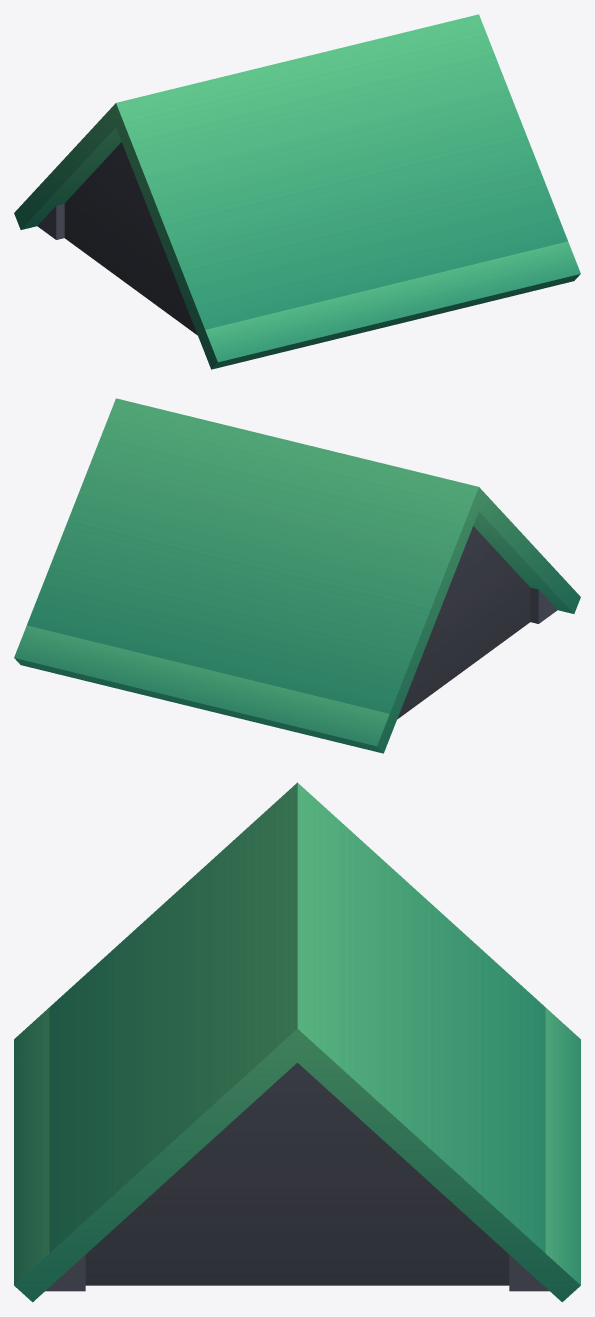
File: roof-gable.glb
The picture shows the model from 3 angles, top to bottom: view 1: azimuth 30°, elevation 25°; view 2: azimuth 150°, elevation 25°; view 3: azimuth 270°, elevation 25°; orthographic projection. The views are drawn at different scales.
Parts seen in each view (by area): view 1: roof-gable; view 2: roof-gable; view 3: roof-gable.
Part boxes in pixels (x1,y1,x2,y2): roof-gable: (14, 14, 580, 369); roof-gable: (14, 398, 580, 753); roof-gable: (14, 782, 580, 1302).
Size of the model in its own units: 1.1 by 0.5707 by 1.07.
Materials: 1 (1 with a texture image).
